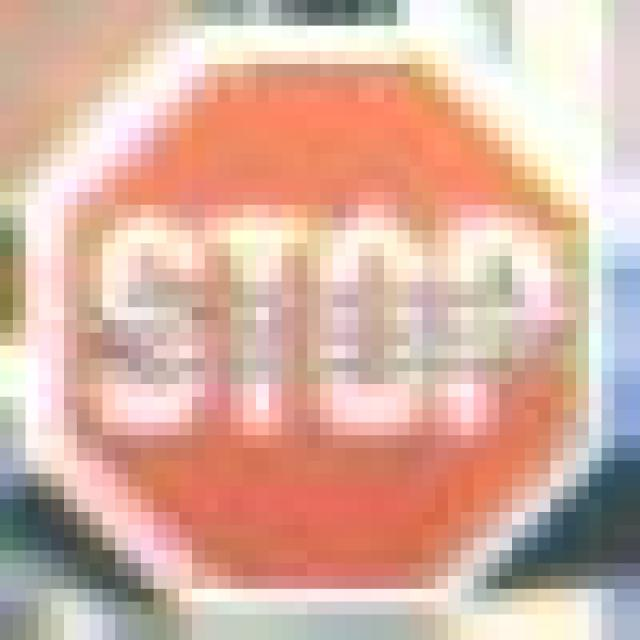STOP: (38, 38, 589, 589)
